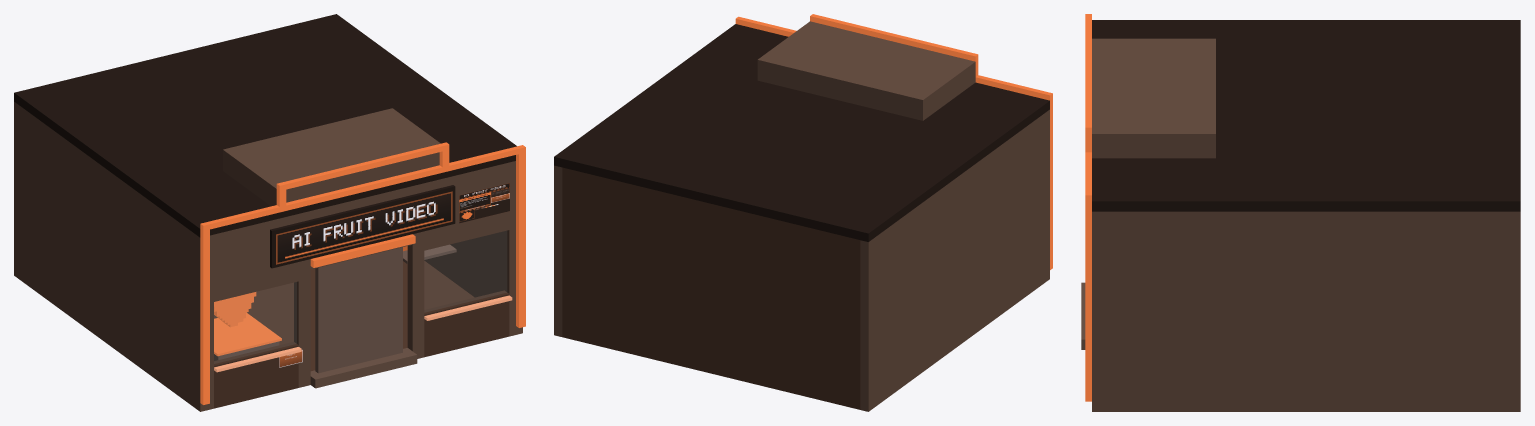
Rendered from plot.glb.
3 renders of one model, left to right at view 1: azimuth 30°, elevation 25°; view 2: azimuth 150°, elevation 25°; view 3: azimuth 270°, elevation 25°, orthographic. The views are drawn at different scales.
Visible parts, largest first — view 1: facade, neon, sign_1, door_panel_L, door_panel_R, pic_1, lintel, logo; view 2: facade, neon; view 3: facade, neon.
Part boxes in pixels (x1=…): facade: x1=14, y1=14, x2=522, y2=411; neon: x1=200, y1=142, x2=525, y2=404; sign_1: x1=276, y1=191, x2=452, y2=264; door_panel_L: x1=315, y1=257, x2=360, y2=373; door_panel_R: x1=360, y1=247, x2=402, y2=362; pic_1: x1=459, y1=183, x2=509, y2=223; lintel: x1=310, y1=234, x2=415, y2=267; logo: x1=214, y1=292, x2=256, y2=327; facade: x1=554, y1=21, x2=1049, y2=411; neon: x1=735, y1=14, x2=1052, y2=269; facade: x1=1081, y1=20, x2=1520, y2=411; neon: x1=1085, y1=14, x2=1091, y2=401.
Size of the model in its own units: 9.5 by 5.9 by 9.74.
Materials: 4 (3 with a texture image).
